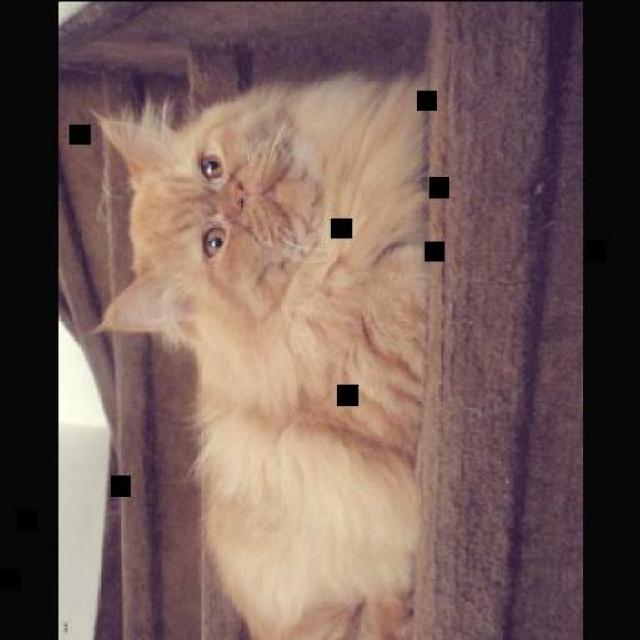unauthorized: (86, 67, 429, 638)
